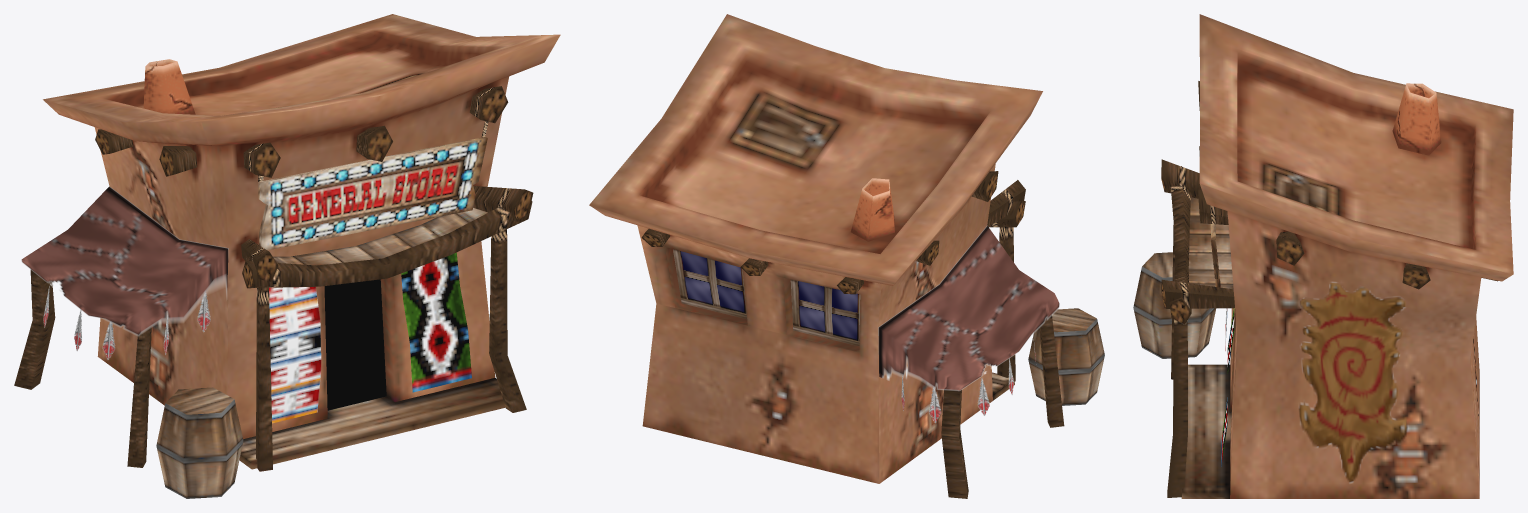
3 views of the same model, side by side, from view 1: azimuth 30°, elevation 25°; view 2: azimuth 150°, elevation 25°; view 3: azimuth 270°, elevation 25° (orthographic). The views are drawn at different scales.
Parts seen in each view (by area): view 1: polySurface5, store_trans, pCube2, pCylinder19, pPlane4, pPlane12, pPlane3, pCylinder11, pCylinder12, polySurface4, pCylinder32, pCylinder13 (+6 smaller); view 2: polySurface5, store_trans, pCylinder19, polySurface7, polySurface6, pCylinder17, pCylinder23, pCylinder16, Object03, pCylinder31, pCylinder29, pCylinder13; view 3: polySurface5, store_trans, pCylinder19, pCylinder23, pCylinder12, polySurface4, pCylinder11, pCylinder30, pCylinder24, pCylinder31, pCylinder32, pPlane4.
Part boxes in pixels (x1=…): polySurface5: x1=43, y1=14, x2=560, y2=469; store_trans: x1=21, y1=186, x2=228, y2=359; pCube2: x1=258, y1=121, x2=488, y2=250; pCylinder19: x1=156, y1=387, x2=243, y2=498; pPlane4: x1=401, y1=252, x2=471, y2=392; pPlane12: x1=324, y1=279, x2=386, y2=410; pPlane3: x1=269, y1=286, x2=321, y2=423; pCylinder11: x1=242, y1=201, x2=532, y2=288; pCylinder12: x1=489, y1=229, x2=526, y2=412; polySurface4: x1=242, y1=208, x2=487, y2=265; pCylinder32: x1=243, y1=86, x2=508, y2=177; pCylinder13: x1=256, y1=286, x2=272, y2=471; polySurface5: x1=589, y1=14, x2=1042, y2=483; store_trans: x1=878, y1=225, x2=1059, y2=422; pCylinder19: x1=1028, y1=308, x2=1104, y2=405; polySurface7: x1=790, y1=279, x2=860, y2=346; polySurface6: x1=673, y1=249, x2=746, y2=319; pCylinder17: x1=941, y1=389, x2=968, y2=498; pCylinder23: x1=850, y1=178, x2=894, y2=241; pCylinder16: x1=1039, y1=315, x2=1064, y2=427; Object03: x1=641, y1=228, x2=863, y2=294; pCylinder31: x1=987, y1=180, x2=1025, y2=225; pCylinder29: x1=916, y1=171, x2=998, y2=265; pCylinder13: x1=997, y1=225, x2=1015, y2=381; polySurface5: x1=1181, y1=14, x2=1513, y2=498; store_trans: x1=1298, y1=281, x2=1408, y2=483; pCylinder19: x1=1133, y1=252, x2=1216, y2=358; pCylinder23: x1=1392, y1=83, x2=1441, y2=155; pCylinder12: x1=1167, y1=319, x2=1187, y2=497; polySurface4: x1=1188, y1=197, x2=1233, y2=289; pCylinder11: x1=1169, y1=166, x2=1191, y2=324; pCylinder30: x1=1161, y1=279, x2=1234, y2=308; pCylinder24: x1=1276, y1=231, x2=1430, y2=289; pCylinder31: x1=1161, y1=159, x2=1201, y2=198; pCylinder32: x1=1198, y1=81, x2=1228, y2=224; pPlane4: x1=1221, y1=308, x2=1234, y2=466.
Bounding box in the file's own units: 437 × 358 × 364.
Materials: 22 (22 with a texture image).
